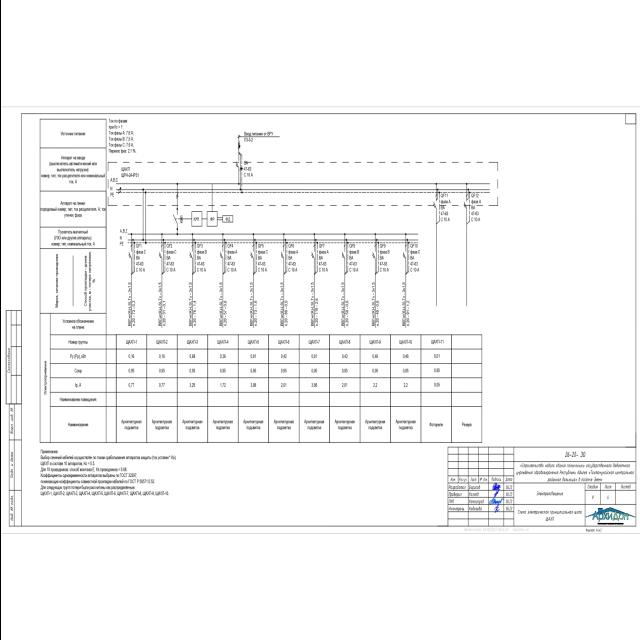-: (470, 205, 480, 223), (165, 255, 175, 273), (408, 255, 418, 273), (348, 255, 358, 273), (242, 159, 252, 177), (256, 255, 266, 273), (226, 256, 236, 274), (134, 256, 144, 274), (317, 256, 327, 274), (195, 255, 205, 273), (287, 255, 297, 272), (378, 255, 388, 272), (439, 206, 449, 223), (120, 172, 138, 178)
FR: (205, 210, 217, 228)
KM: (172, 210, 202, 228)
QF: (126, 244, 132, 260), (156, 244, 162, 259), (400, 244, 406, 259), (340, 244, 346, 258), (370, 244, 376, 258), (249, 244, 254, 259), (279, 244, 284, 259), (188, 244, 193, 258), (218, 244, 223, 258), (462, 194, 466, 210), (310, 244, 314, 259), (432, 194, 436, 208), (234, 159, 238, 171)
